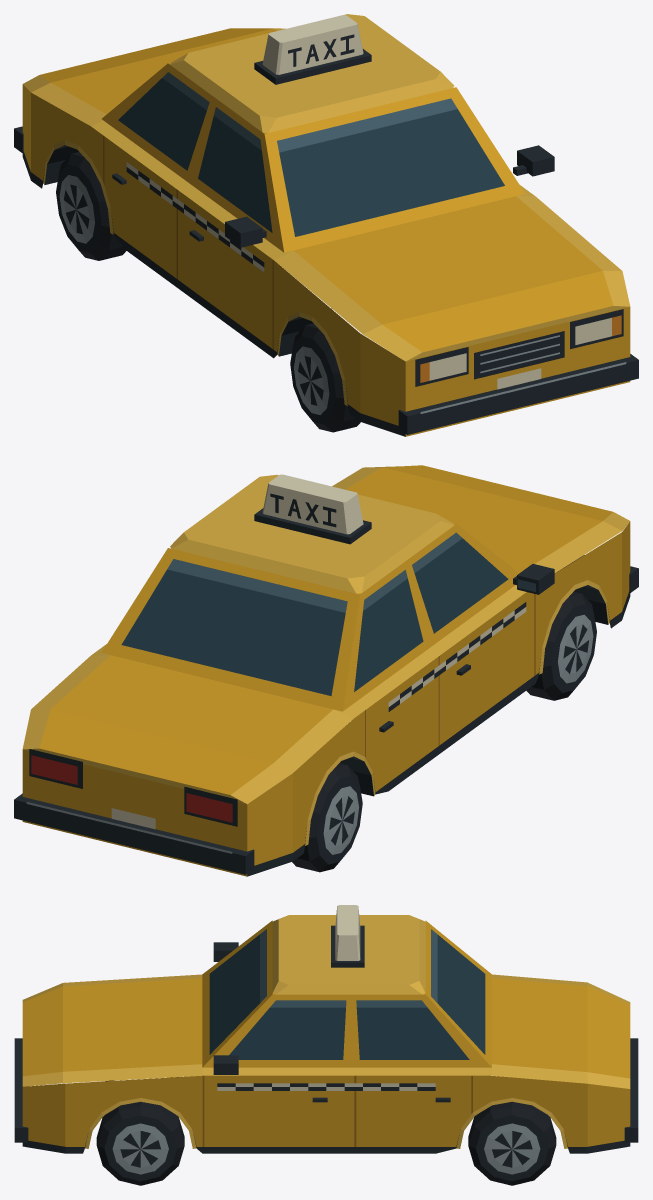
Rendered from cab.glb.
The picture shows the model from 3 angles, top to bottom: view 1: azimuth 30°, elevation 25°; view 2: azimuth 150°, elevation 25°; view 3: azimuth 270°, elevation 25°; orthographic projection. The views are drawn at different scales.
Parts seen in each view (by area): view 1: Cab_Prototype; view 2: Cab_Prototype; view 3: Cab_Prototype.
Boxes of the visible parts, box(x1,y1,x2,y2) form: Cab_Prototype: box(14, 14, 638, 436); Cab_Prototype: box(14, 465, 638, 876); Cab_Prototype: box(14, 905, 638, 1185).
Size of the model in its own units: 2.29 by 1.91 by 4.98.
